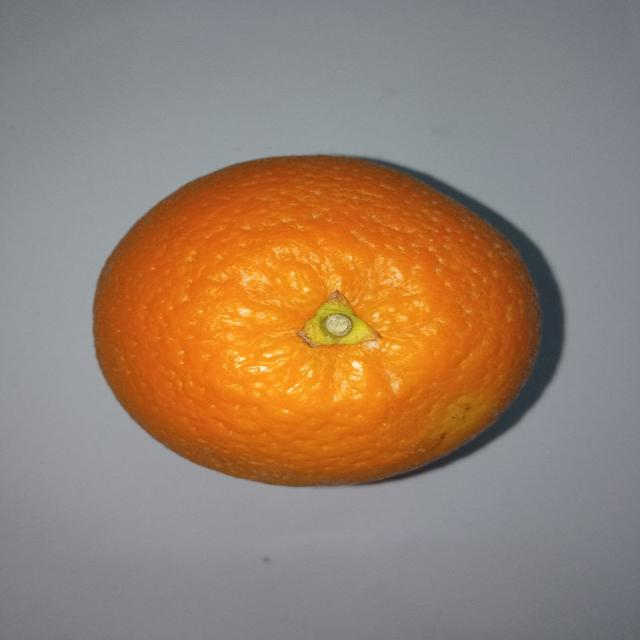fresh_orange: (90, 154, 541, 485)
